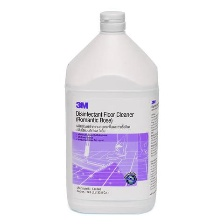cleaning_solution: (62, 7, 160, 217)
